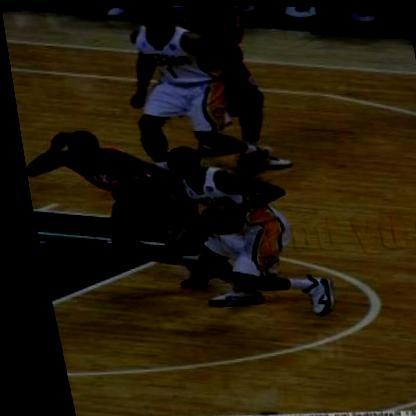basketball: (186, 195, 237, 239)
